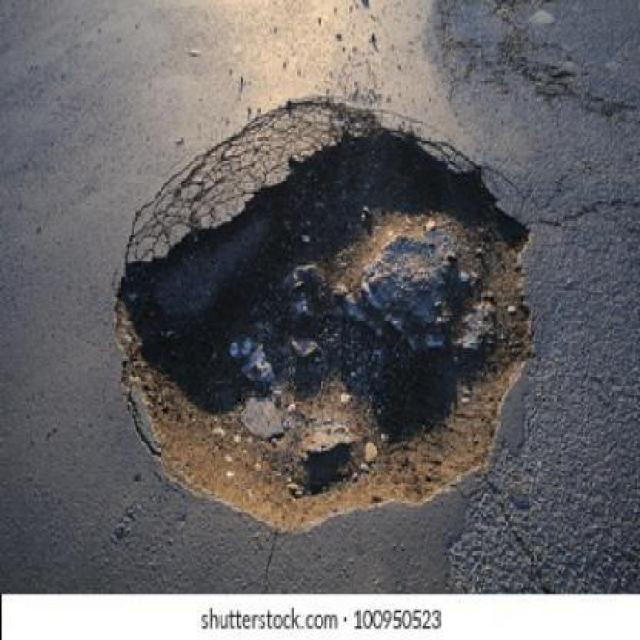Pothole: (104, 93, 539, 533)
